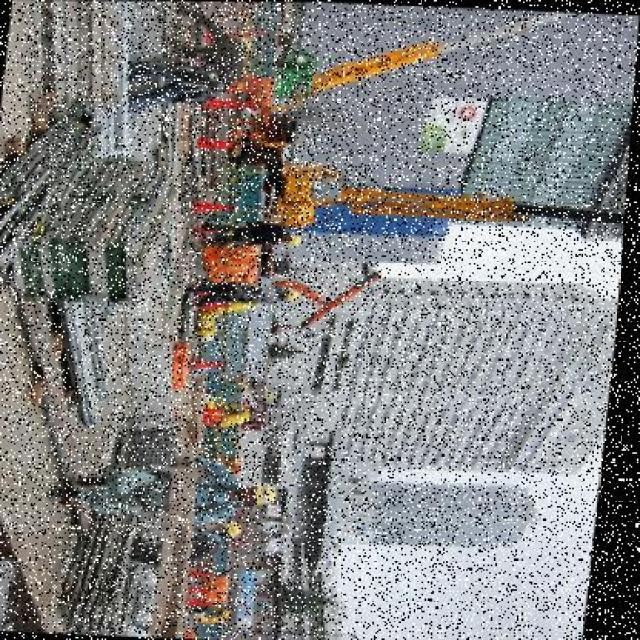helmet: (248, 480, 288, 510)
